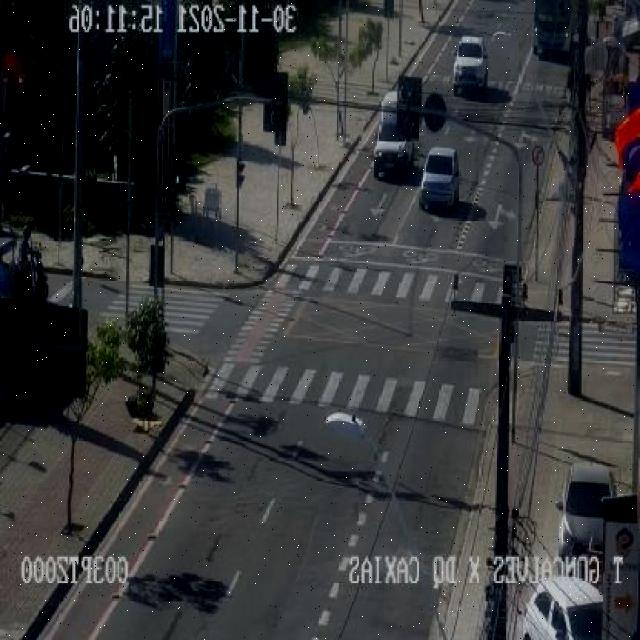bus: (531, 0, 578, 58)
car: (559, 463, 616, 572), (522, 576, 604, 639), (374, 92, 416, 176), (422, 146, 460, 209), (454, 36, 488, 93)
motorbike: (10, 224, 48, 300)
